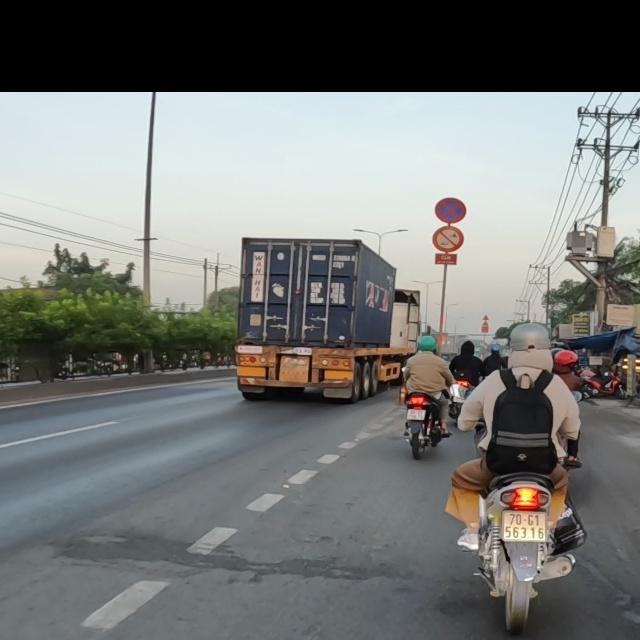license-plate: (499, 510, 549, 543), (407, 407, 427, 421)
